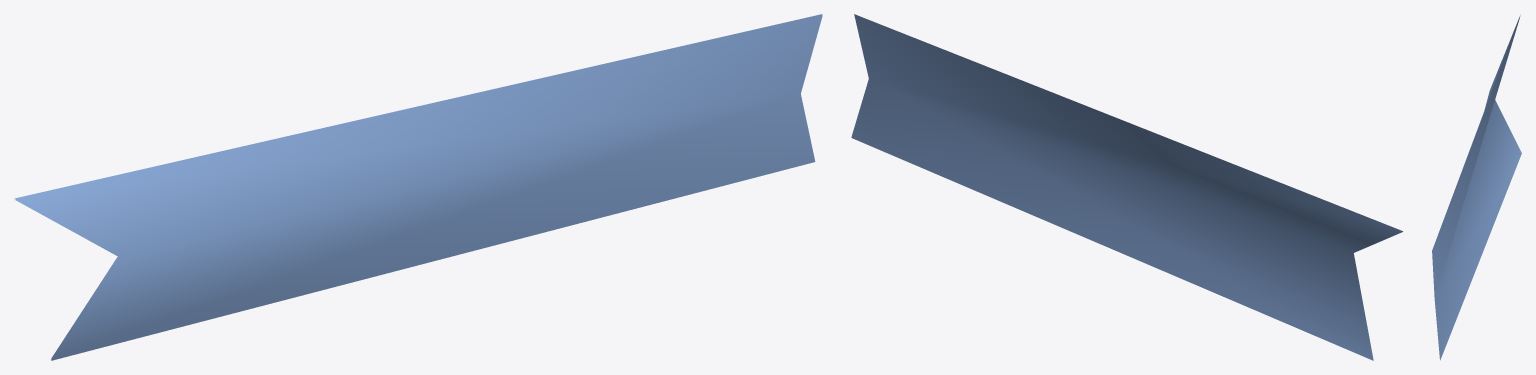
The model's file is Banner_B_LOD2.fbx.
3 views of the same model, side by side, from view 1: azimuth 30°, elevation 25°; view 2: azimuth 150°, elevation 25°; view 3: azimuth 270°, elevation 25° (orthographic). The views are drawn at different scales.
Parts seen in each view (by area): view 1: Banner_B_LOD2; view 2: Banner_B_LOD2; view 3: Banner_B_LOD2.
Boxes of the visible parts, bbox=[...] form: Banner_B_LOD2: bbox=[14, 14, 822, 360]; Banner_B_LOD2: bbox=[851, 14, 1402, 360]; Banner_B_LOD2: bbox=[1432, 15, 1521, 360].
Size of the model in its own units: 115 by 31.84 by 16.16.
